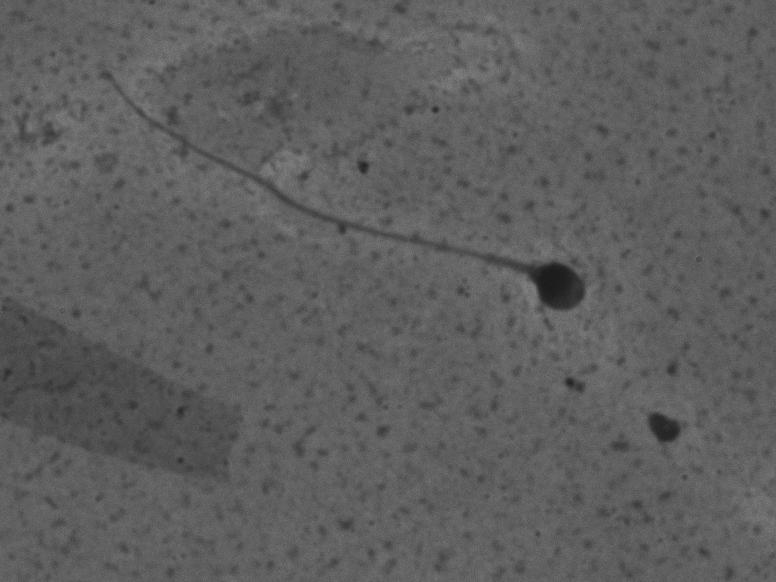Abnormal: (58, 56, 614, 350)
